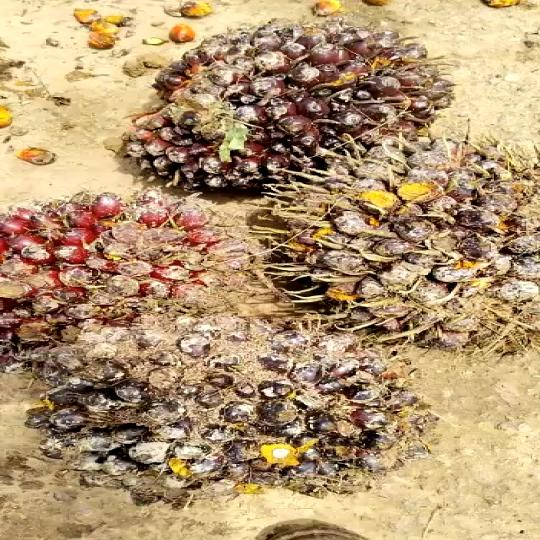kurang masak: (23, 326, 446, 504), (250, 133, 540, 351), (112, 6, 436, 188), (0, 181, 264, 358)
